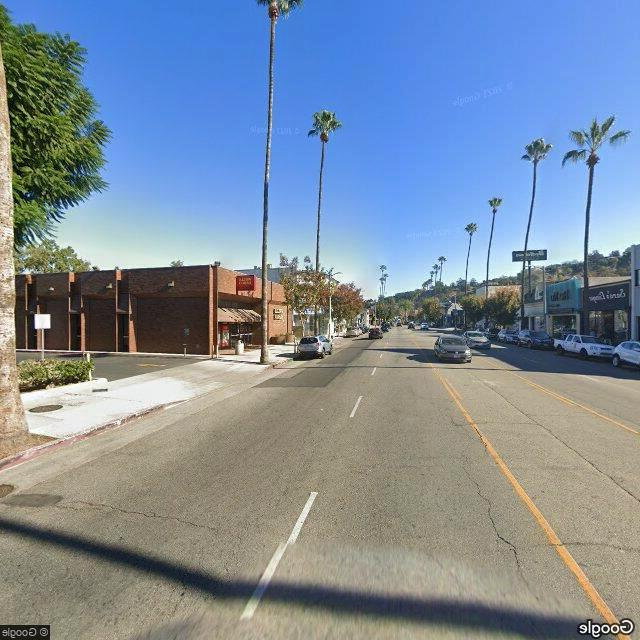crack: (463, 463, 527, 569), (50, 495, 228, 531)
